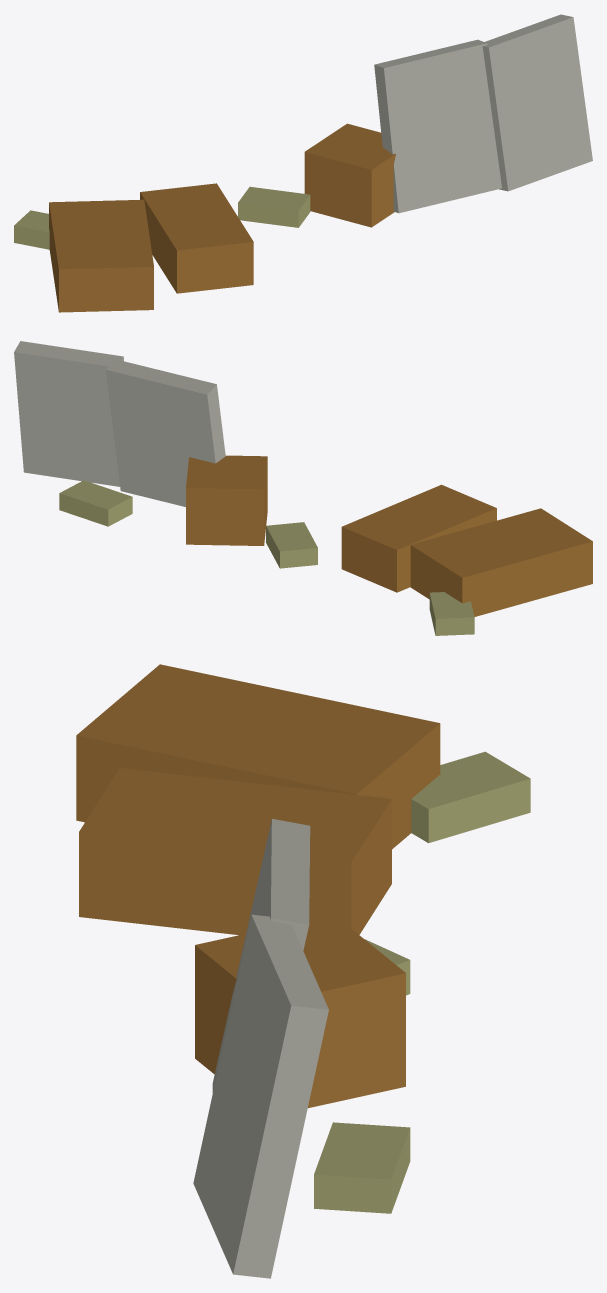
The model's file is SM_BarricadaCivil_v1_Muebles_e2_MuyDanado_LOD0.fbx.
3 views of the same model, one above another, from view 1: azimuth 30°, elevation 25°; view 2: azimuth 150°, elevation 25°; view 3: azimuth 270°, elevation 25° (orthographic). The views are drawn at different scales.
Parts seen in each view (by area): view 1: SM_barricada_civil_v6_LOD0; view 2: SM_barricada_civil_v6_LOD0; view 3: SM_barricada_civil_v6_LOD0.
Boxes of the visible parts, box(x1,y1,x2,y2) form: SM_barricada_civil_v6_LOD0: box(14, 14, 592, 312); SM_barricada_civil_v6_LOD0: box(14, 341, 592, 635); SM_barricada_civil_v6_LOD0: box(76, 664, 530, 1278).
Size of the model in its own units: 8.03 by 1.91 by 2.9.
